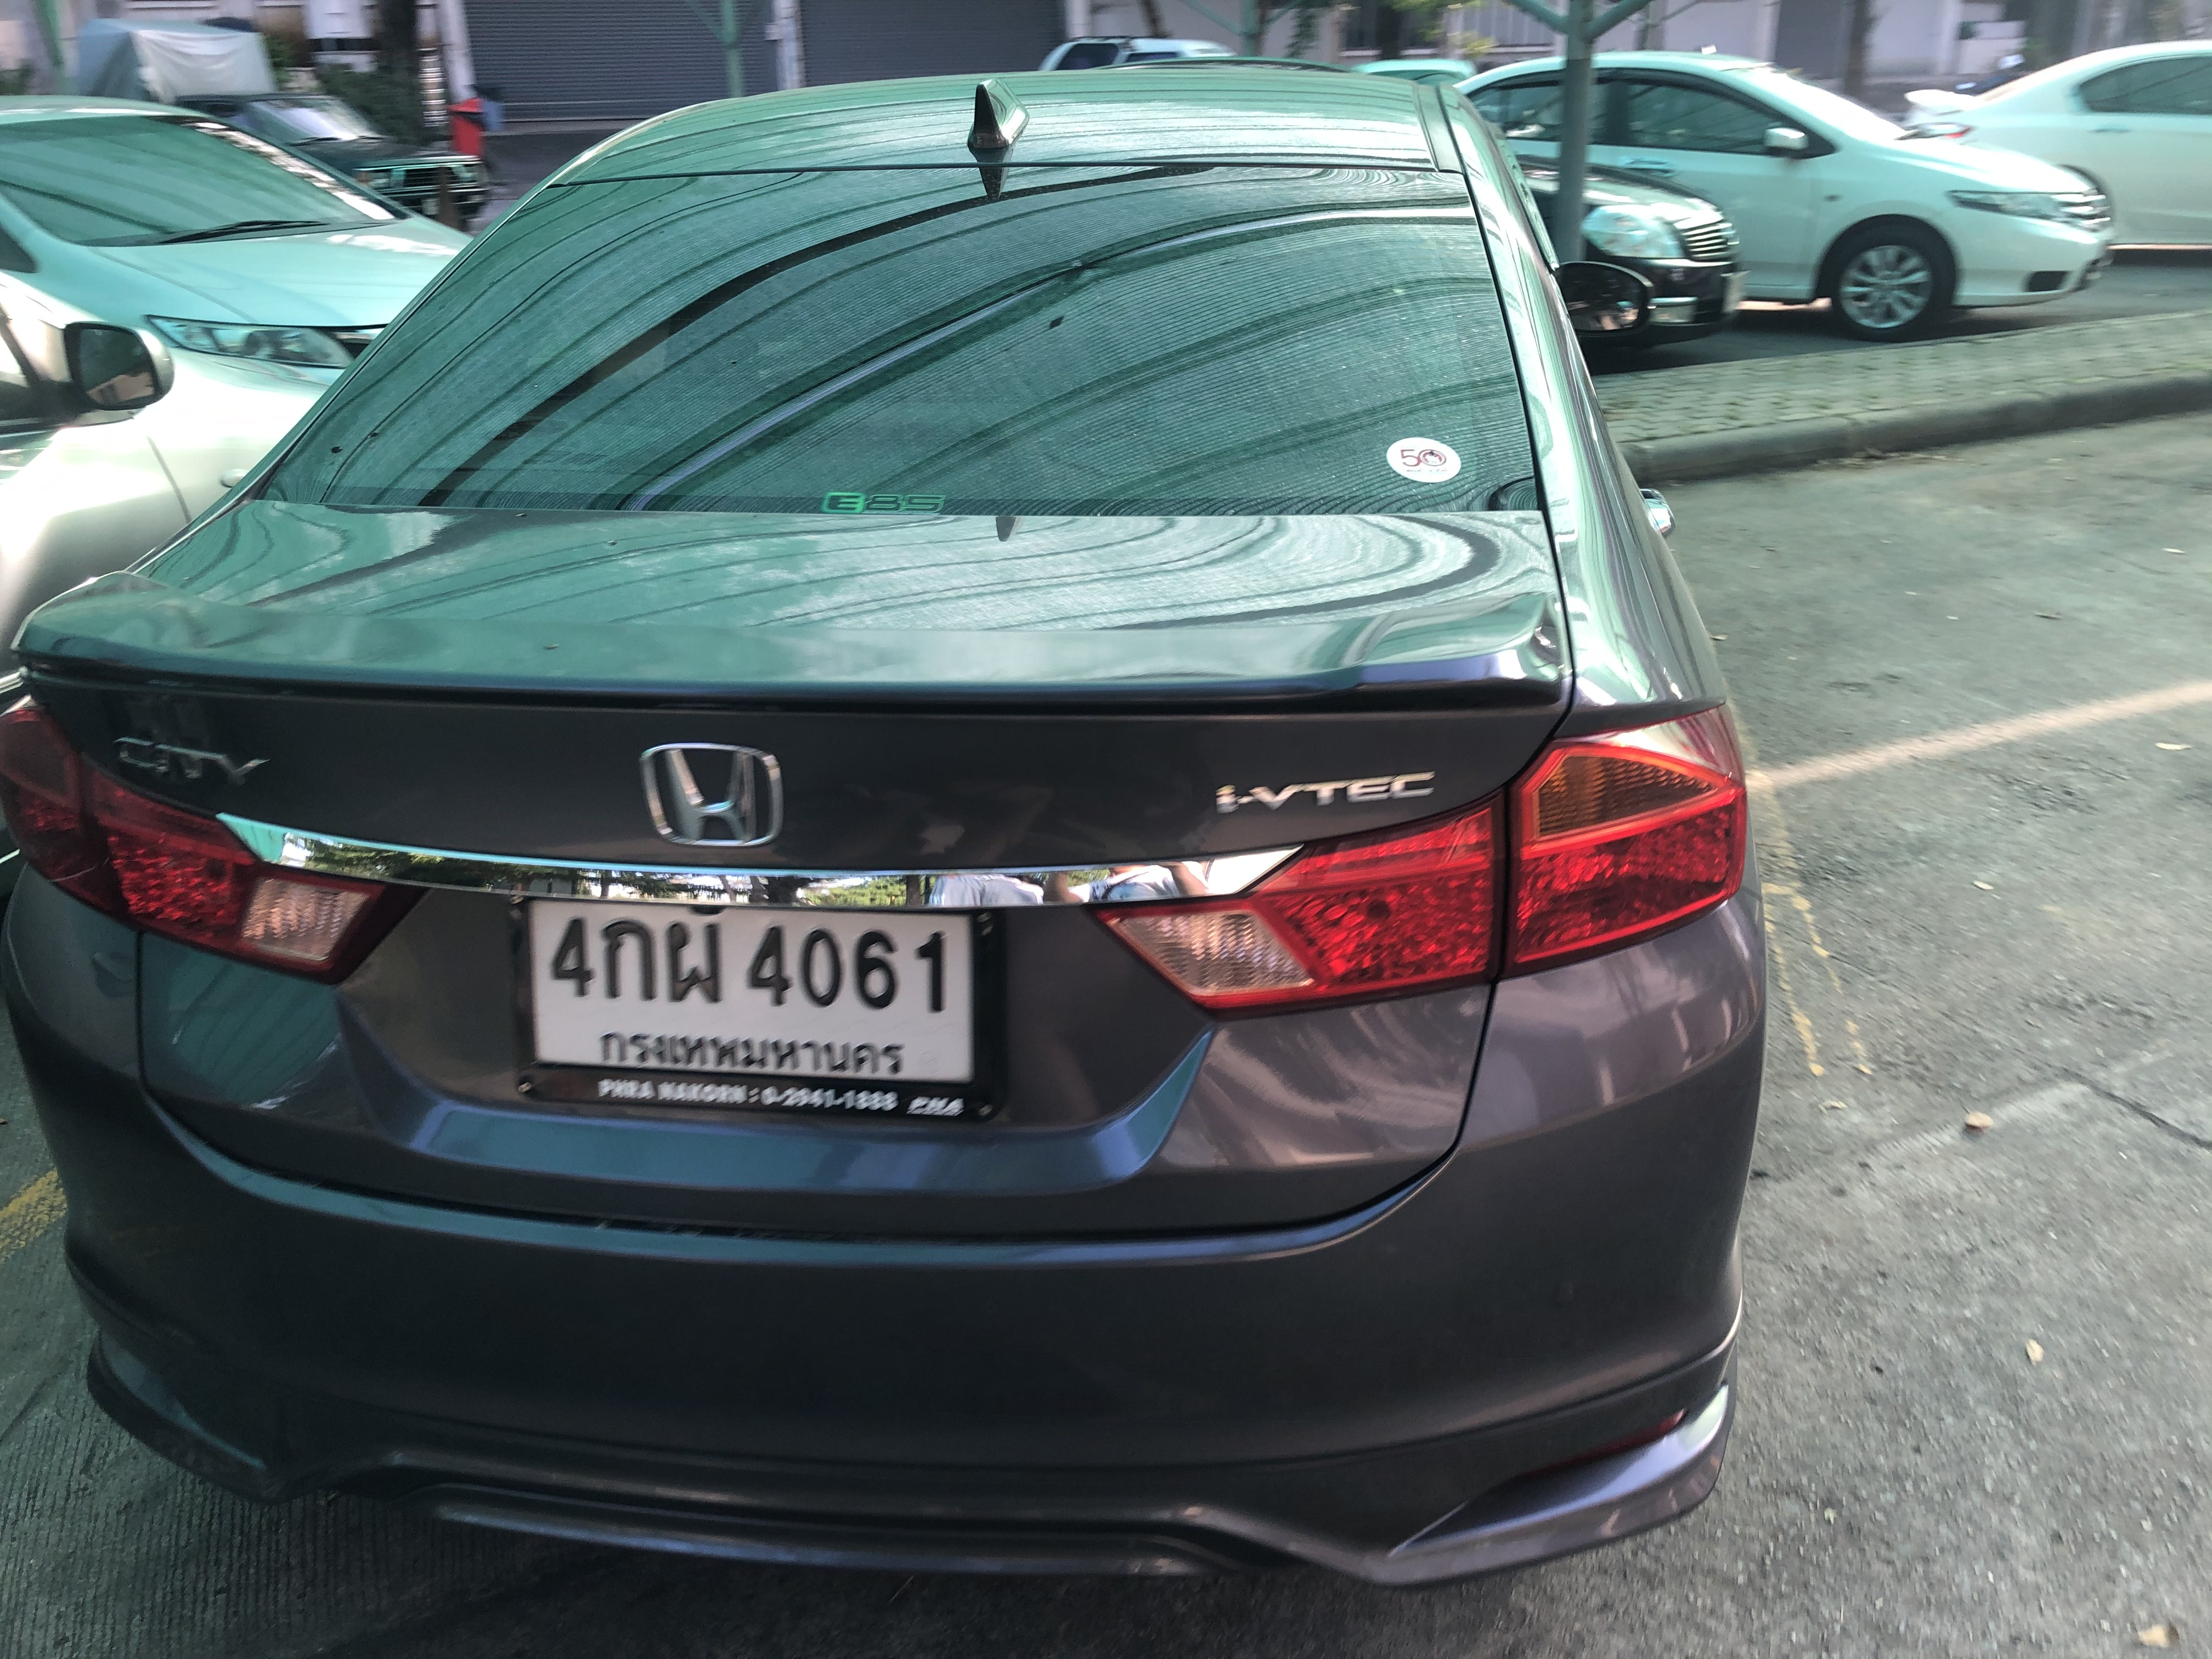in: (529, 904, 975, 1084)
out: (510, 890, 1008, 1122)
